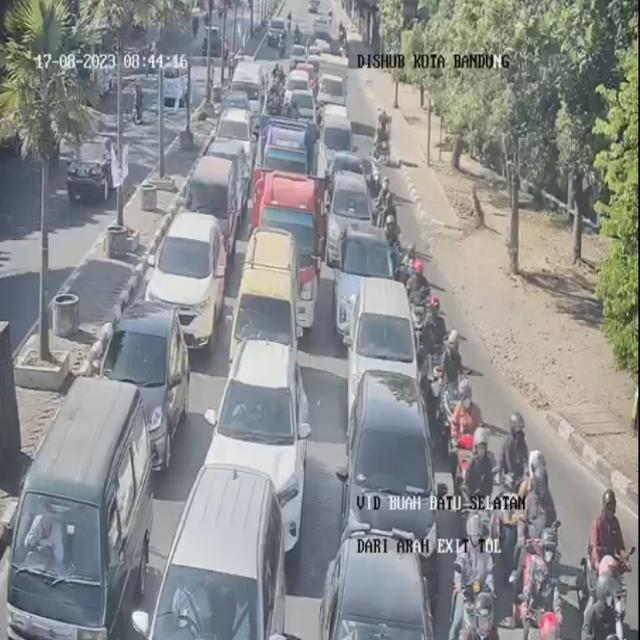cars: (10, 384, 154, 640), (160, 467, 288, 640), (205, 337, 312, 536), (344, 362, 434, 590), (320, 519, 436, 640), (104, 296, 188, 449), (343, 273, 419, 423), (228, 222, 304, 355), (256, 176, 323, 322), (153, 207, 225, 338), (338, 214, 394, 324), (325, 168, 372, 263), (194, 141, 243, 226), (316, 50, 352, 114), (317, 104, 350, 161), (330, 150, 376, 189), (220, 102, 253, 154), (236, 64, 263, 118), (292, 91, 318, 124), (290, 69, 310, 97)
motorcycle: (519, 439, 561, 573), (450, 499, 489, 638), (522, 532, 562, 638), (593, 490, 631, 596), (502, 407, 531, 528), (433, 329, 466, 428), (458, 428, 492, 520), (450, 379, 476, 464), (406, 256, 430, 324), (424, 295, 444, 360), (395, 236, 420, 286), (371, 114, 388, 175), (378, 189, 396, 239), (375, 174, 389, 220), (375, 104, 389, 148), (272, 59, 286, 86)
truck: (258, 112, 310, 197)
